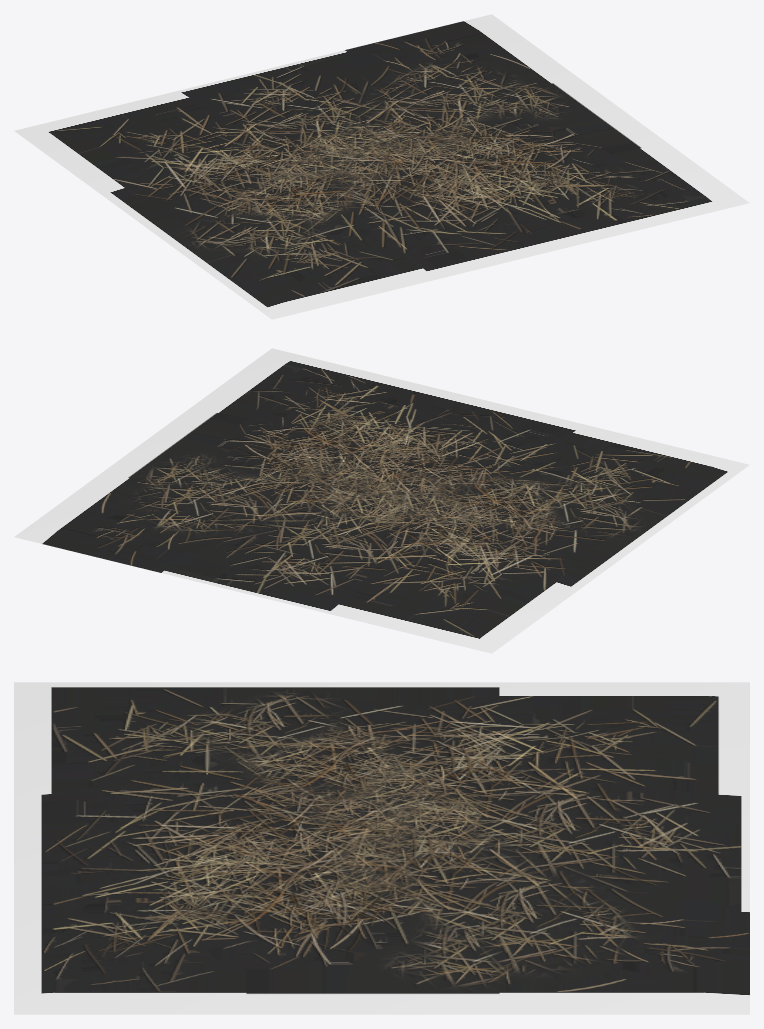
The model's file is Alpha_3.fbx.
3 views of the same model, one above another, from view 1: azimuth 30°, elevation 25°; view 2: azimuth 150°, elevation 25°; view 3: azimuth 270°, elevation 25° (orthographic). The views are drawn at different scales.
Visible parts, largest first — view 1: Plane; view 2: Plane; view 3: Plane.
Boxes of the visible parts, x1,y1,x2,y2 form: Plane: [14, 14, 749, 319]; Plane: [14, 348, 749, 653]; Plane: [14, 682, 749, 1014].
Size of the model in its own units: 2.56 by 0.0794 by 2.39.
